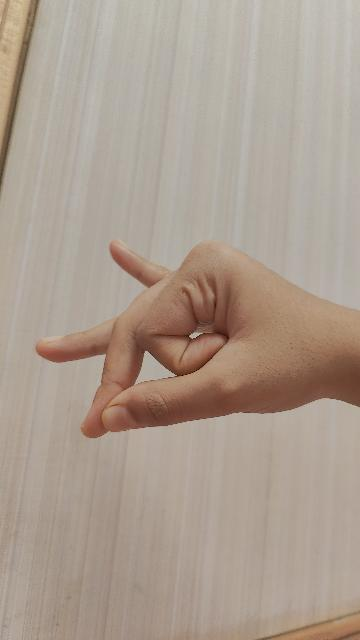bhramara: (37, 240, 360, 441)
